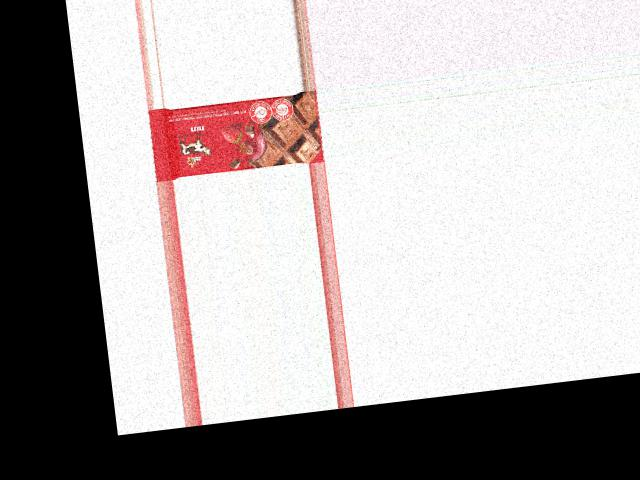chocolate: (146, 89, 322, 181)
